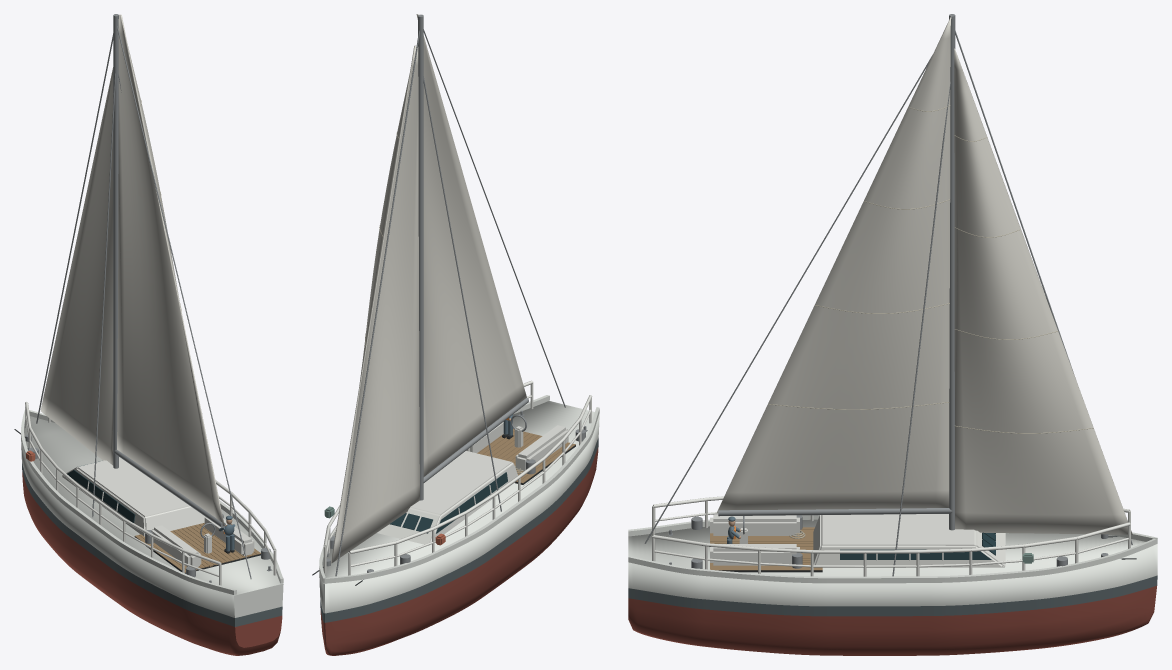
File: sailboat.glb
3 views of the same model, side by side, from view 1: azimuth 30°, elevation 25°; view 2: azimuth 150°, elevation 25°; view 3: azimuth 270°, elevation 25° (orthographic). The views are drawn at different scales.
Parts seen in each view (by area): view 1: canvas, hull, white, bottom, metal, stripe, teak, window; view 2: canvas, hull, white, bottom, metal, stripe, teak, window; view 3: canvas, hull, bottom, white, metal, stripe, teak, window, sand.
Part boxes in pixels (bbox=[...]): canvas: bbox=[40, 14, 224, 525]; hull: bbox=[21, 410, 283, 617]; white: bbox=[25, 401, 276, 585]; bottom: bbox=[22, 472, 282, 655]; metal: bbox=[25, 14, 272, 582]; stripe: bbox=[22, 463, 282, 626]; teak: bbox=[135, 523, 260, 572]; window: bbox=[67, 461, 135, 522]; canvas: bbox=[331, 14, 526, 563]; hull: bbox=[319, 395, 599, 613]; white: bbox=[323, 380, 592, 575]; bottom: bbox=[320, 447, 598, 655]; metal: bbox=[326, 14, 587, 576]; stripe: bbox=[320, 438, 598, 622]; teak: bbox=[477, 429, 575, 483]; window: bbox=[389, 472, 507, 533]; canvas: bbox=[716, 15, 1132, 534]; hull: bbox=[628, 515, 1157, 606]; bottom: bbox=[628, 585, 1156, 655]; white: bbox=[652, 496, 1130, 576]; metal: bbox=[644, 14, 1132, 576]; stripe: bbox=[628, 575, 1157, 616]; teak: bbox=[710, 527, 822, 570]; window: bbox=[840, 532, 995, 559]; sand: bbox=[768, 105, 1093, 538].
Bounding box in the file's own units: 5.5 × 24.8 × 18.8.
